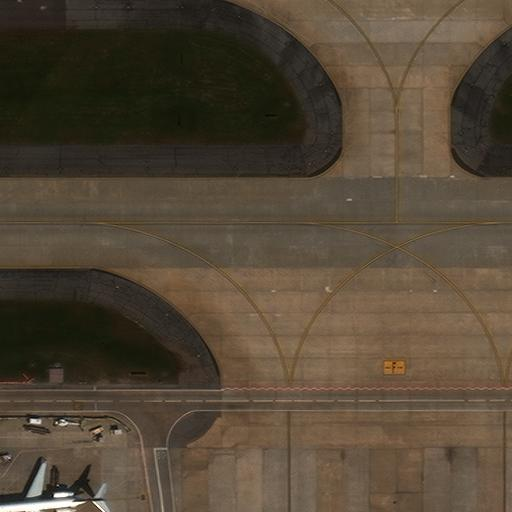Medium Civil Transport: (0, 462, 106, 512)
